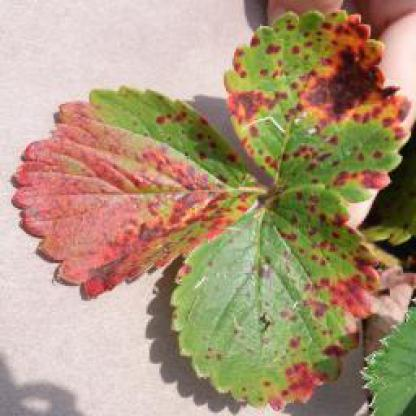leaf scorch: (13, 8, 414, 414)
